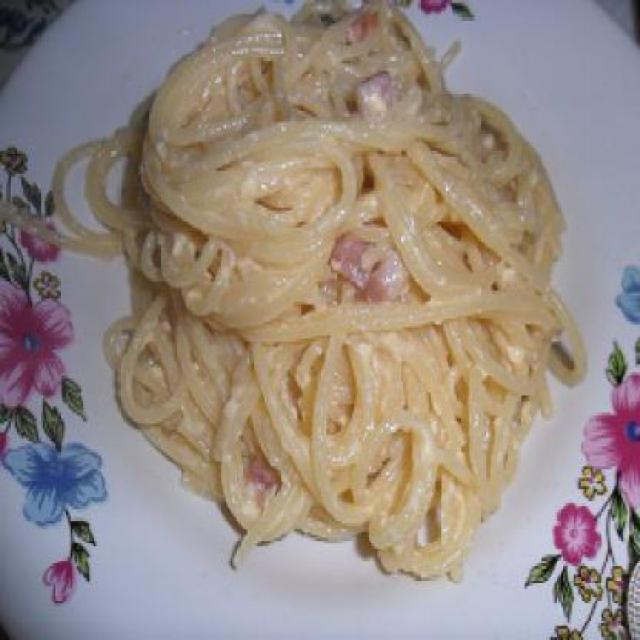Pasta with carbonara sauce: (66, 11, 606, 606)
